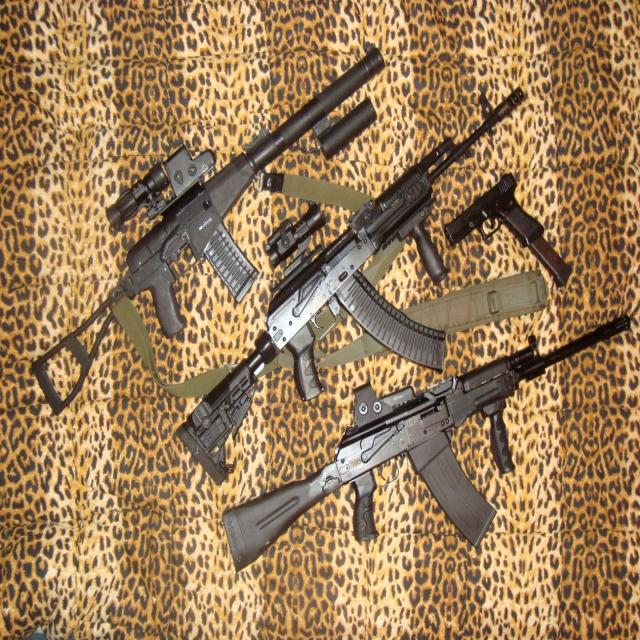firearm: (176, 88, 525, 486), (31, 46, 384, 417), (224, 314, 630, 574)
pistol: (445, 172, 544, 250)
